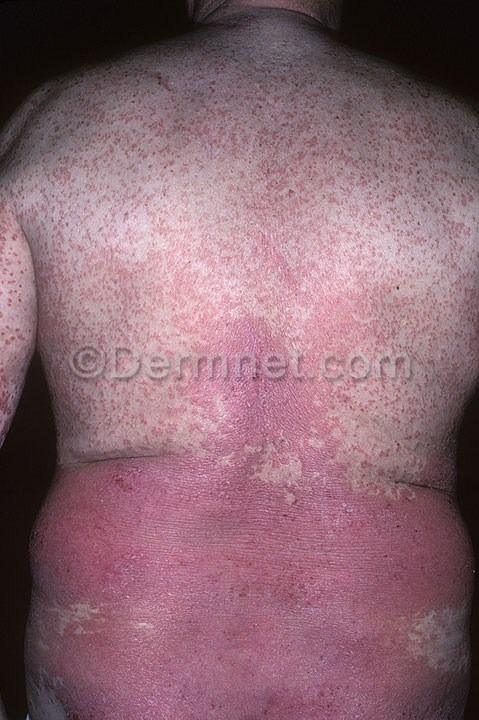Psoriasis: (54, 458, 458, 720), (165, 319, 378, 499)
